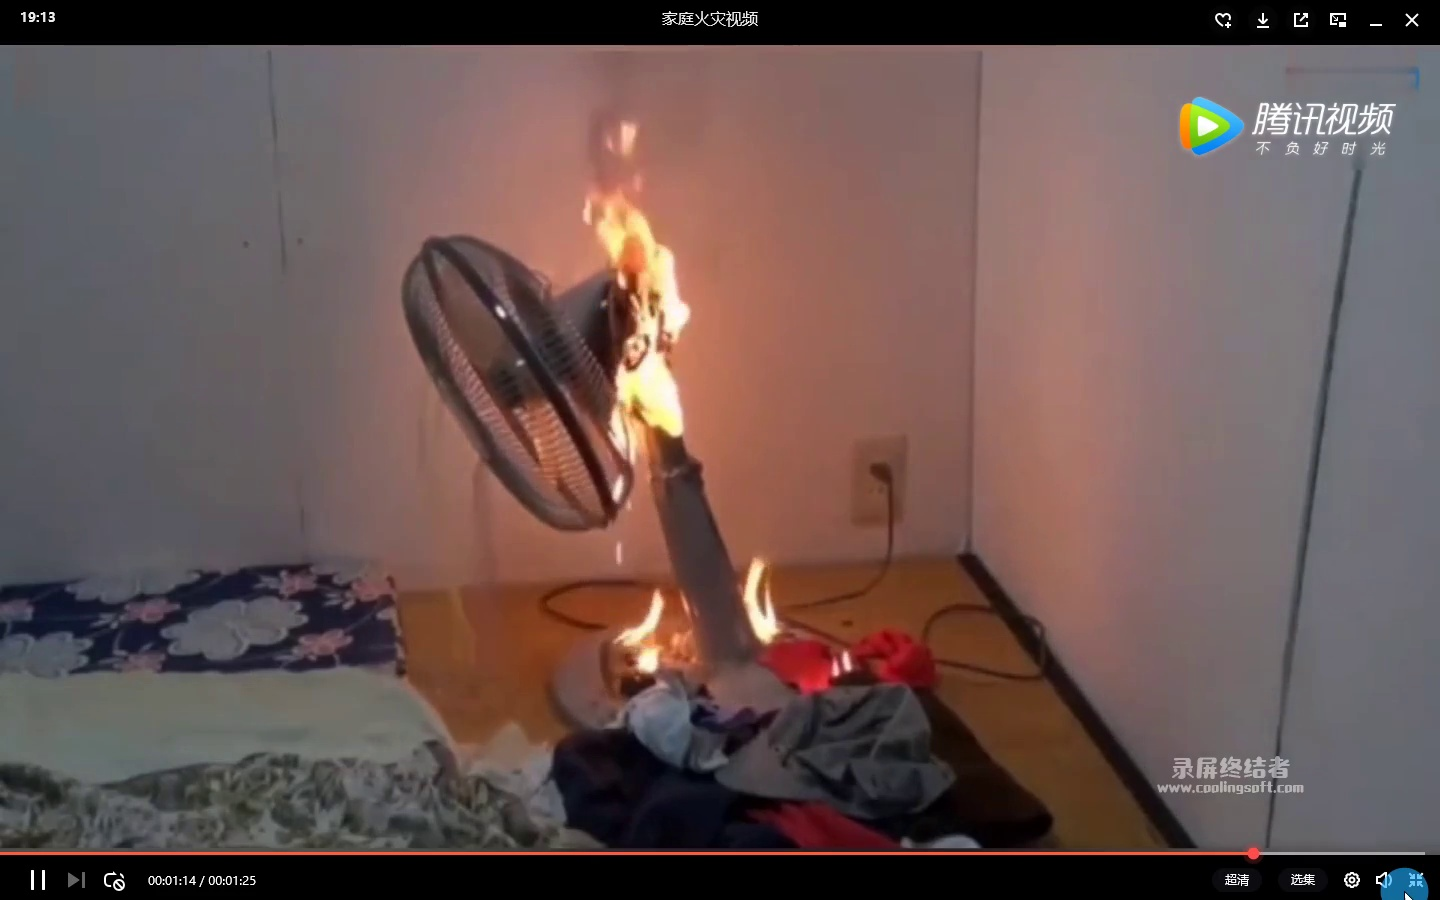fire: (577, 137, 730, 445), (629, 575, 686, 671)
